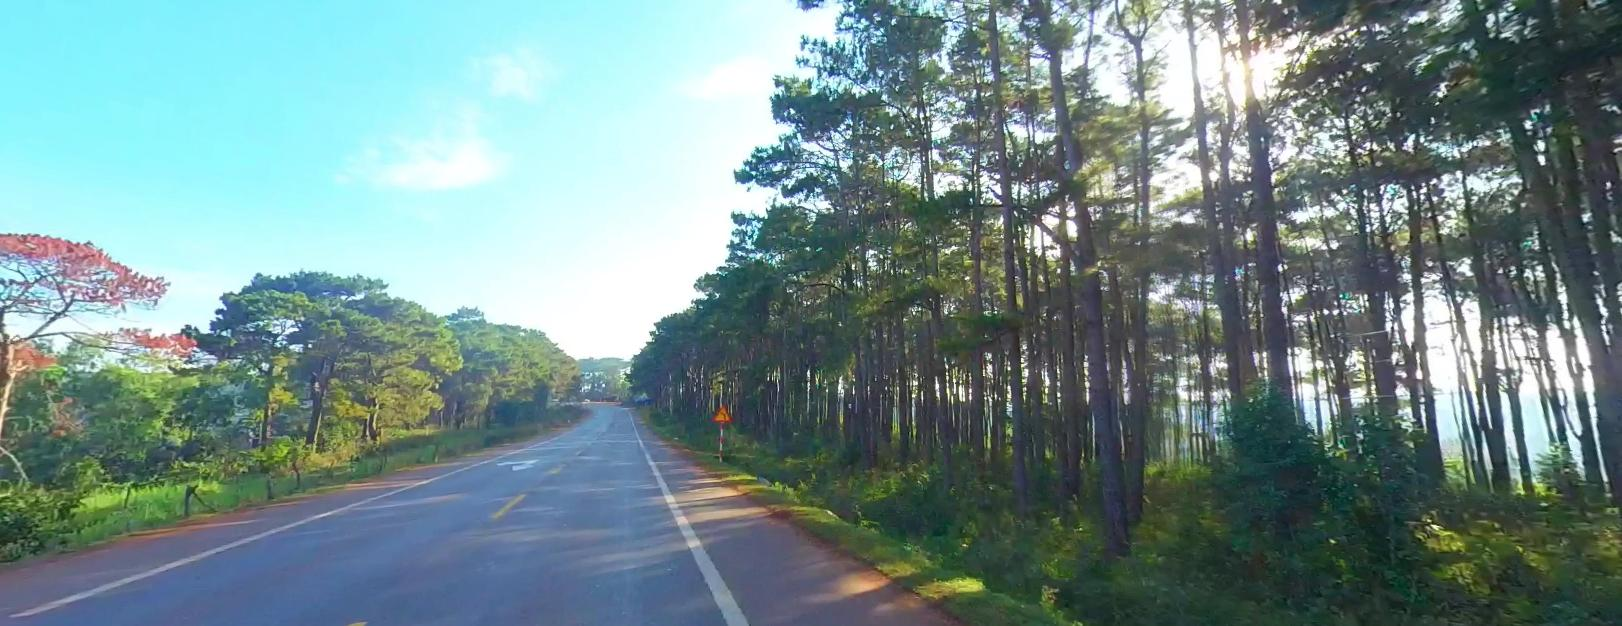Nguy hiem: (712, 404, 733, 421)
